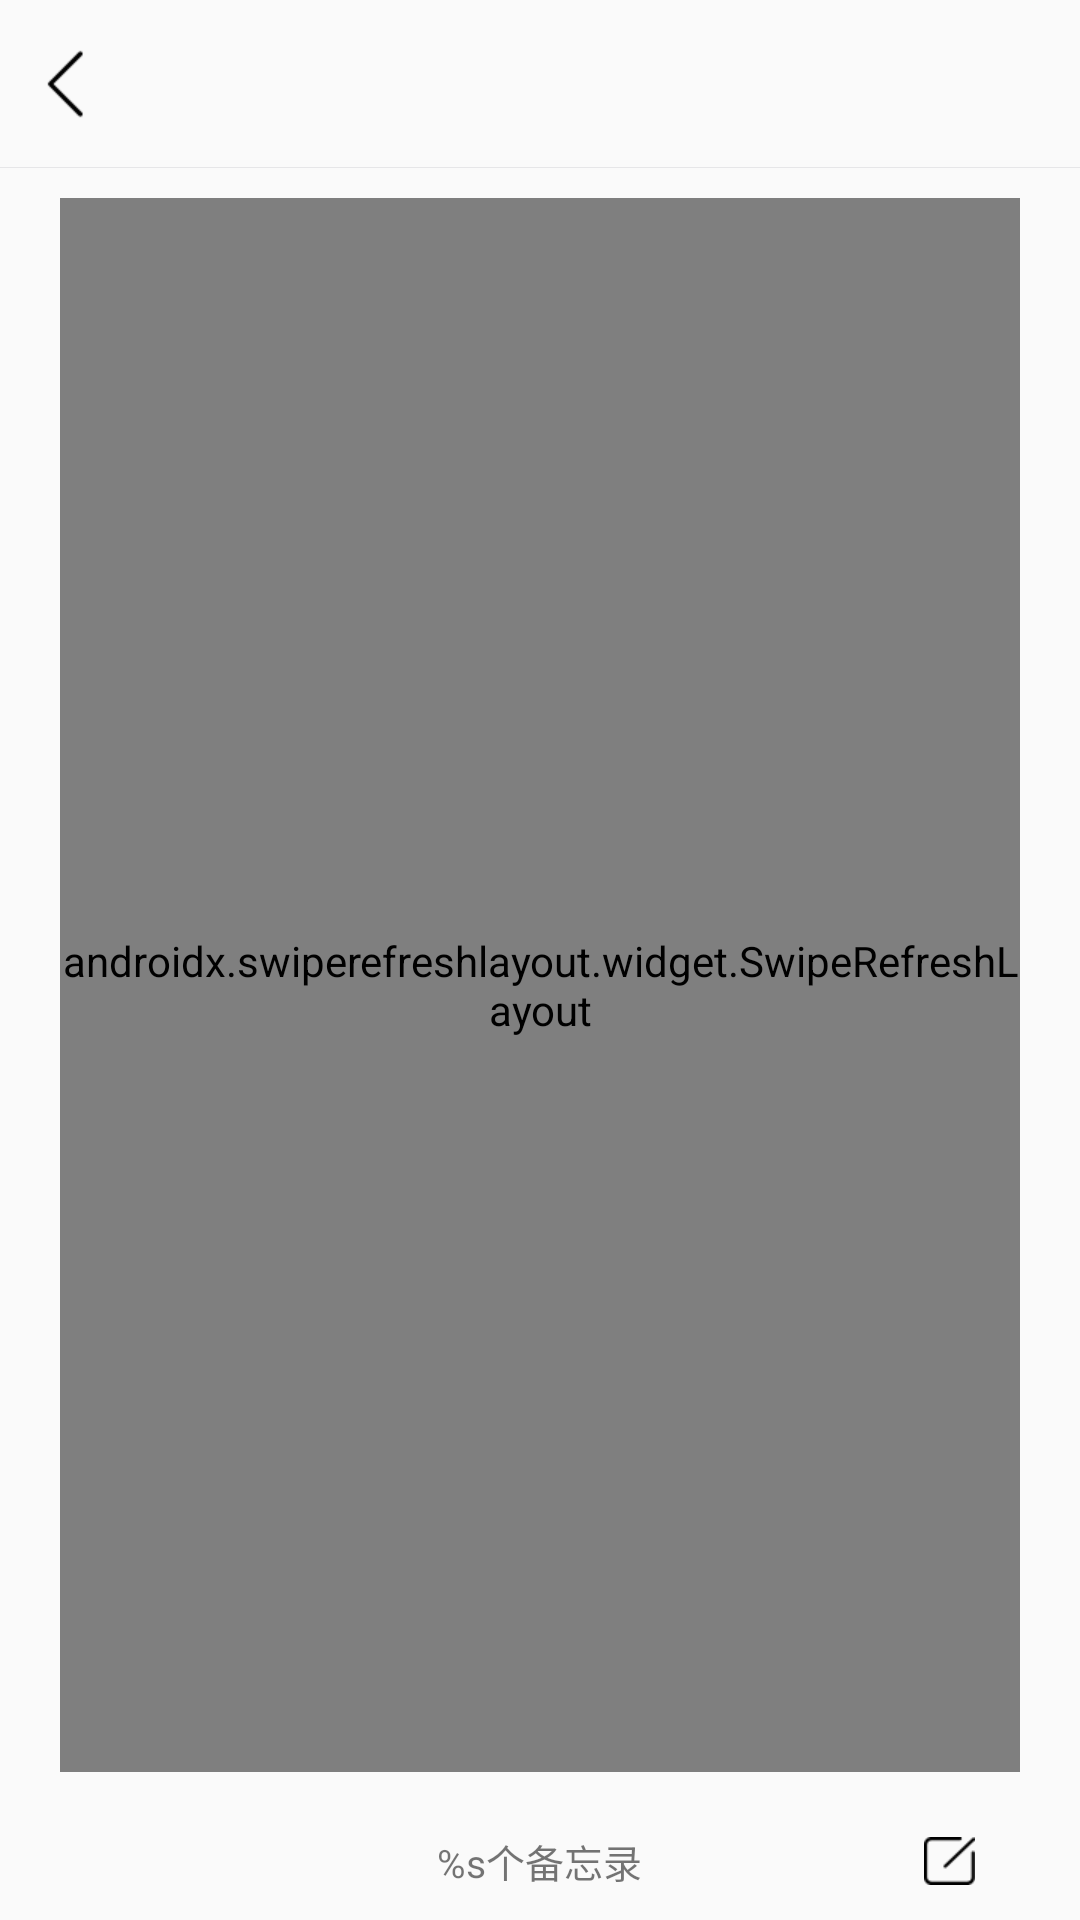

Icon bounding boxes for this 1080px x 1920px phone screenshot, format region(x1, y1, x2, y2):
arrow left: region(47, 51, 83, 117)
edit add: region(924, 1837, 975, 1885)
